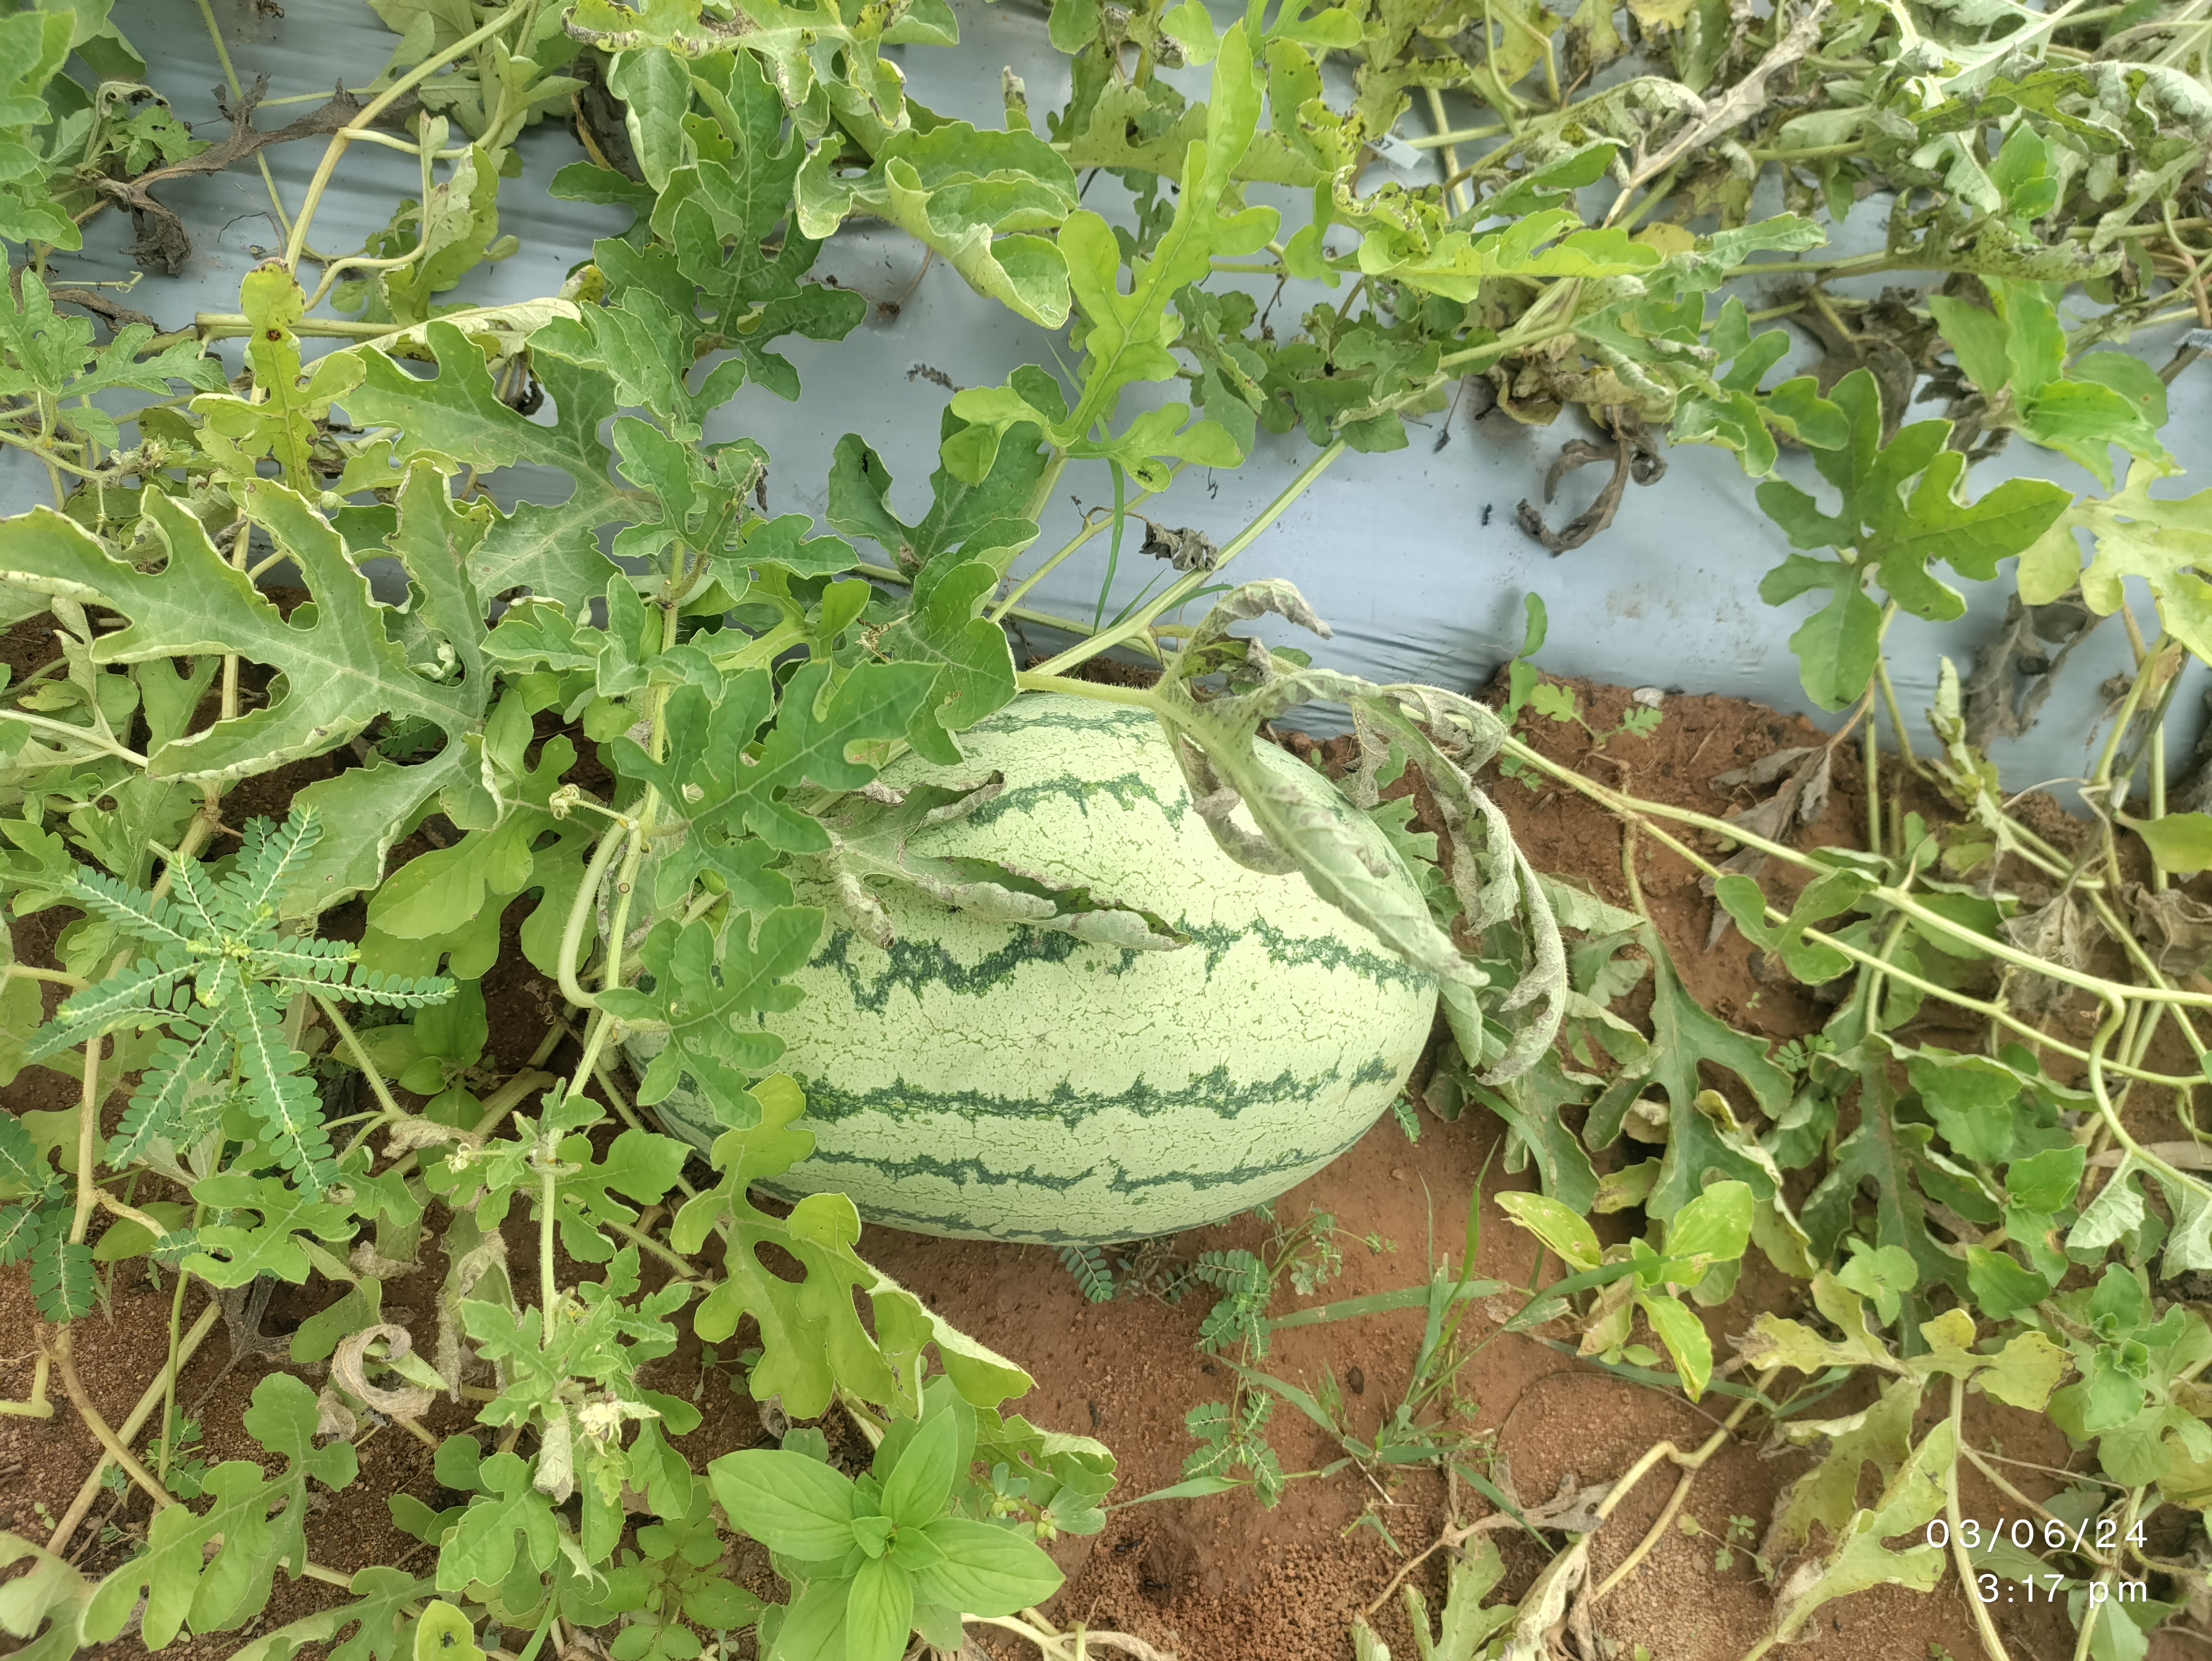good-to-harvest: (576, 642, 1495, 1227)
